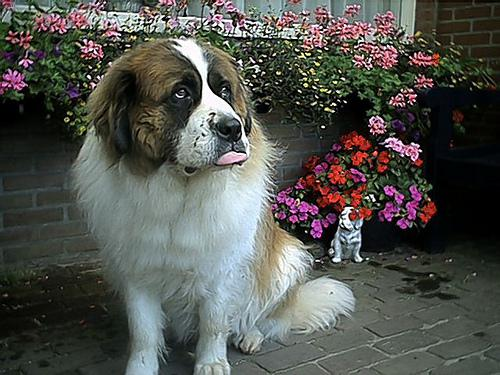dog-saint_bernard: (92, 38, 250, 169)
